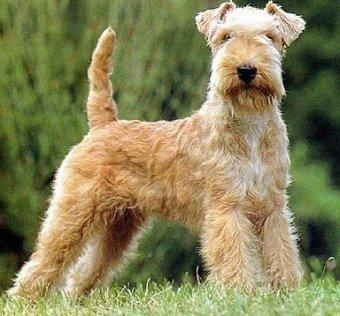wire-haired_fox_terrier: (4, 1, 307, 306)
